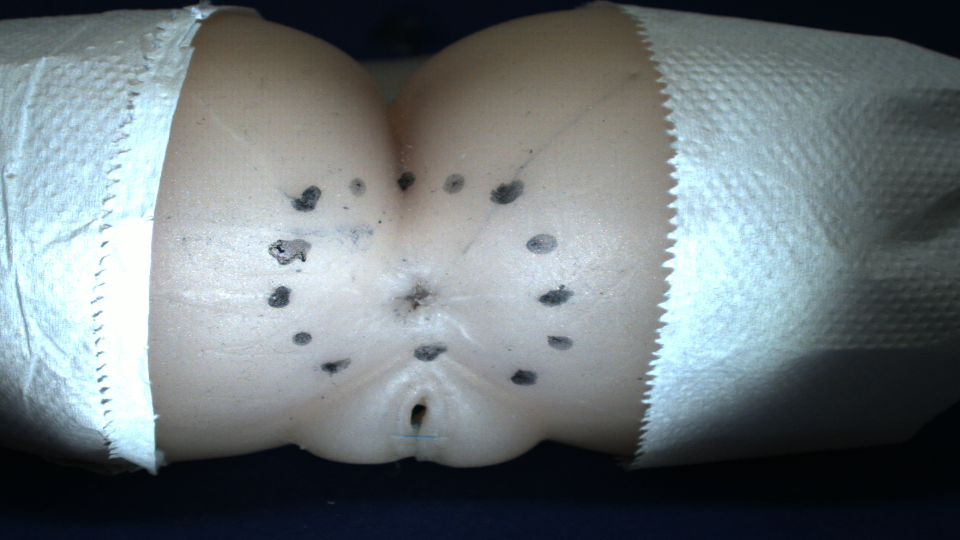asarp_marker: (269, 234, 321, 265), (521, 225, 563, 258), (286, 180, 327, 213), (489, 176, 534, 206), (412, 339, 449, 370), (509, 364, 545, 395), (539, 282, 577, 311), (262, 284, 297, 312), (442, 169, 471, 200), (321, 355, 359, 377), (543, 331, 573, 354), (347, 176, 371, 203), (395, 171, 423, 194), (289, 328, 314, 346)
